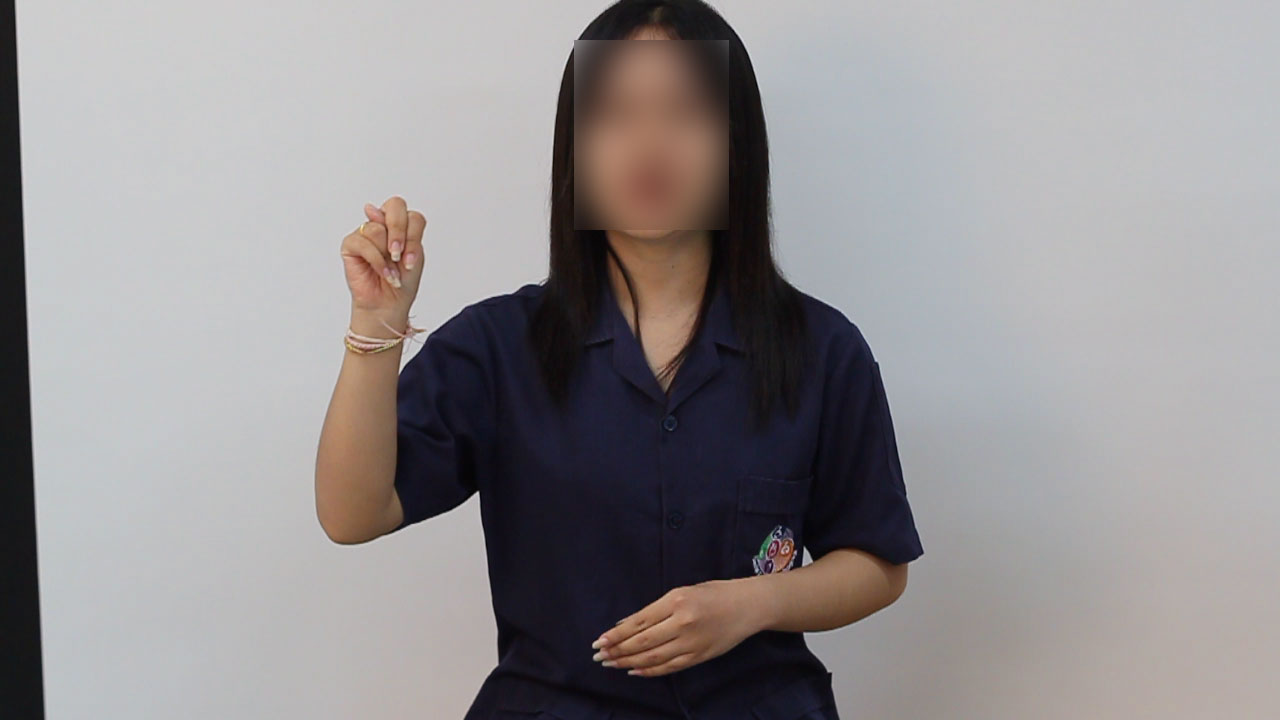nor: (326, 181, 437, 329)
